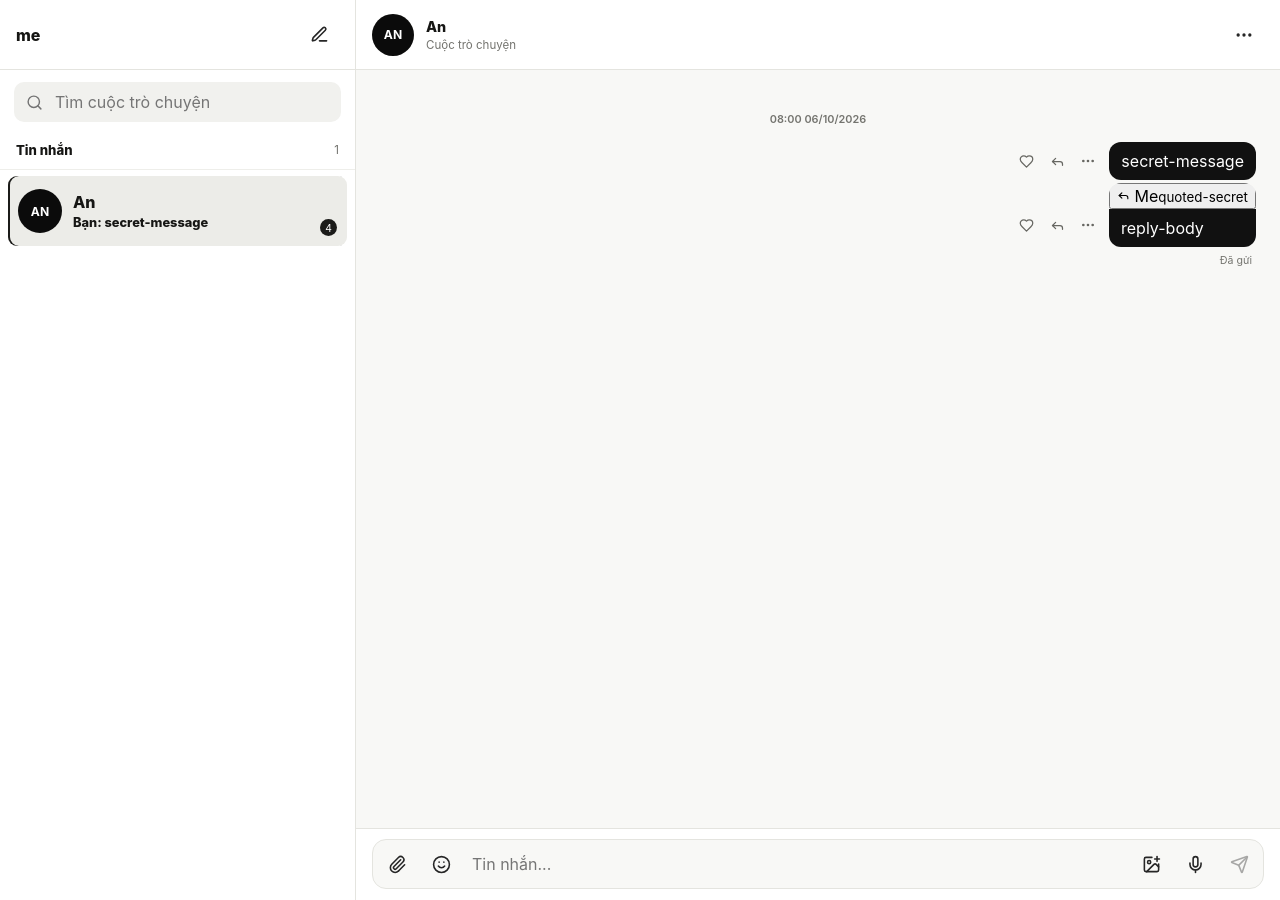
Scenario: full message action parity › recalls for the sender and redacts reply quotes without clearing the composer
expect the text "quoted-secret" is shown: met, box left=1158, top=189, right=1248, bottom=205
Type "keep draft" into the text box named "Nội dung tin nhắn" at (796, 864), box left=465, top=844, right=1127, bottom=884
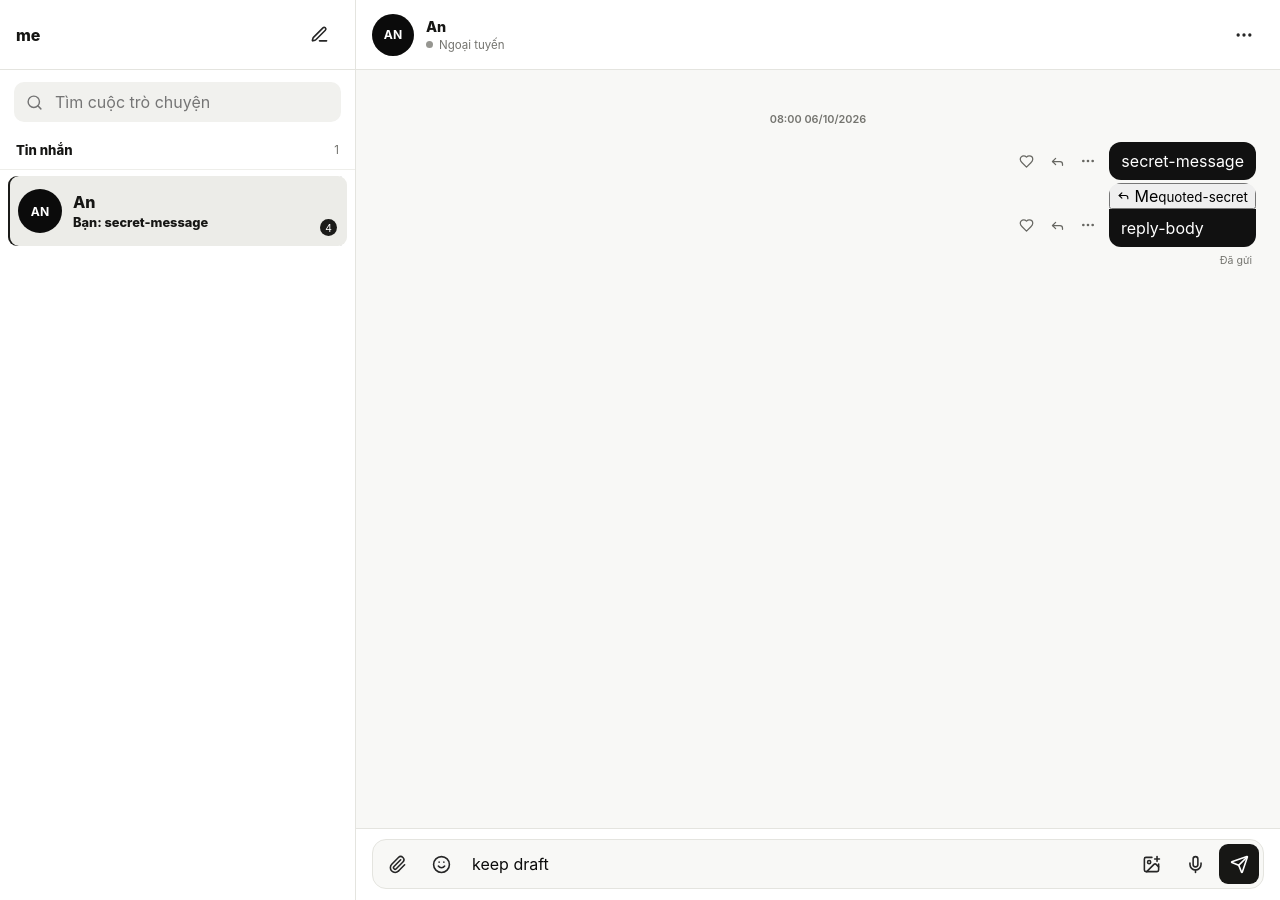
Click the button named "Thao tác khác" below "08:00 06/10/2026" at (1088, 161), box left=1073, top=146, right=1103, bottom=176
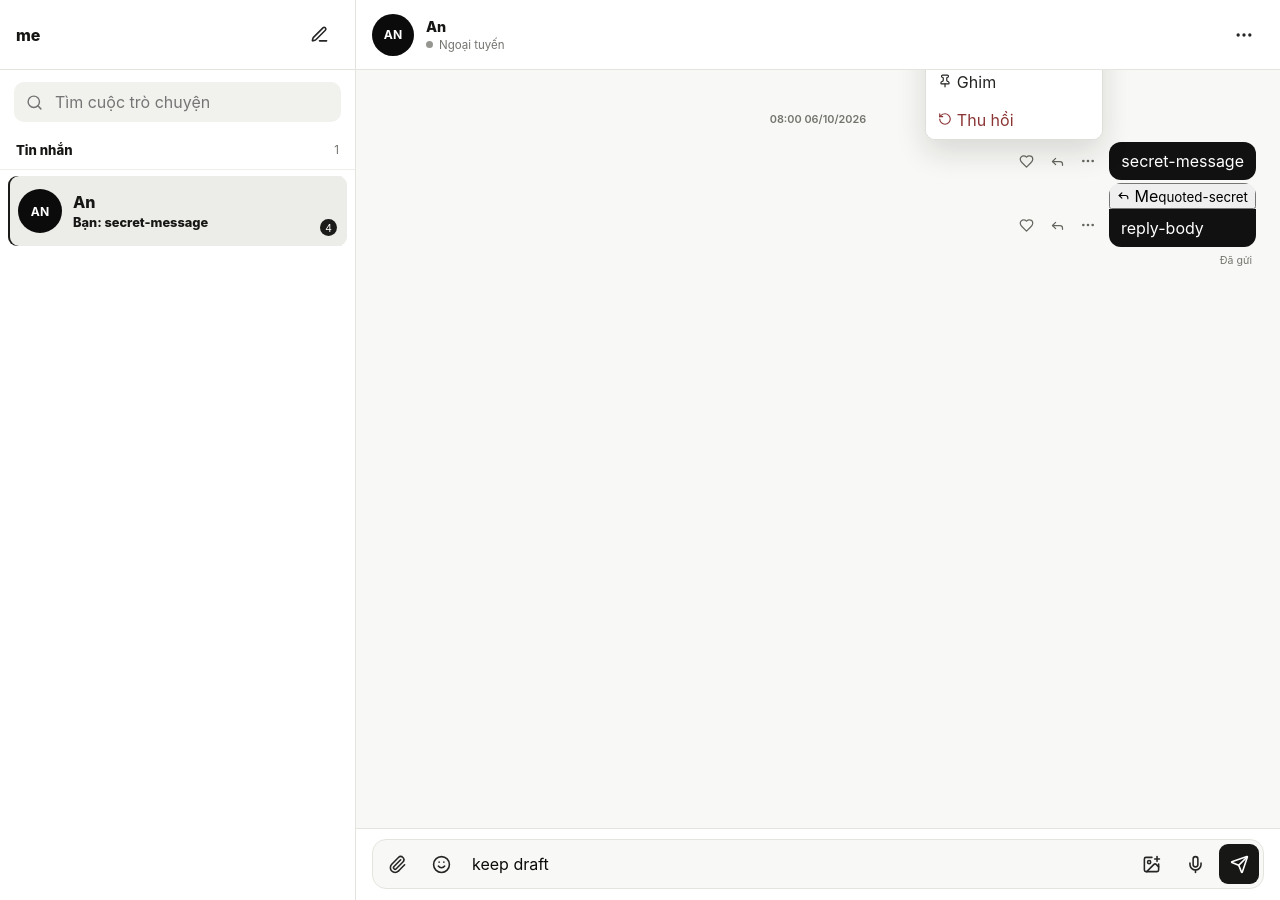
Click the menu item "Thu hồi" at (1014, 120), box left=926, top=101, right=1102, bottom=139
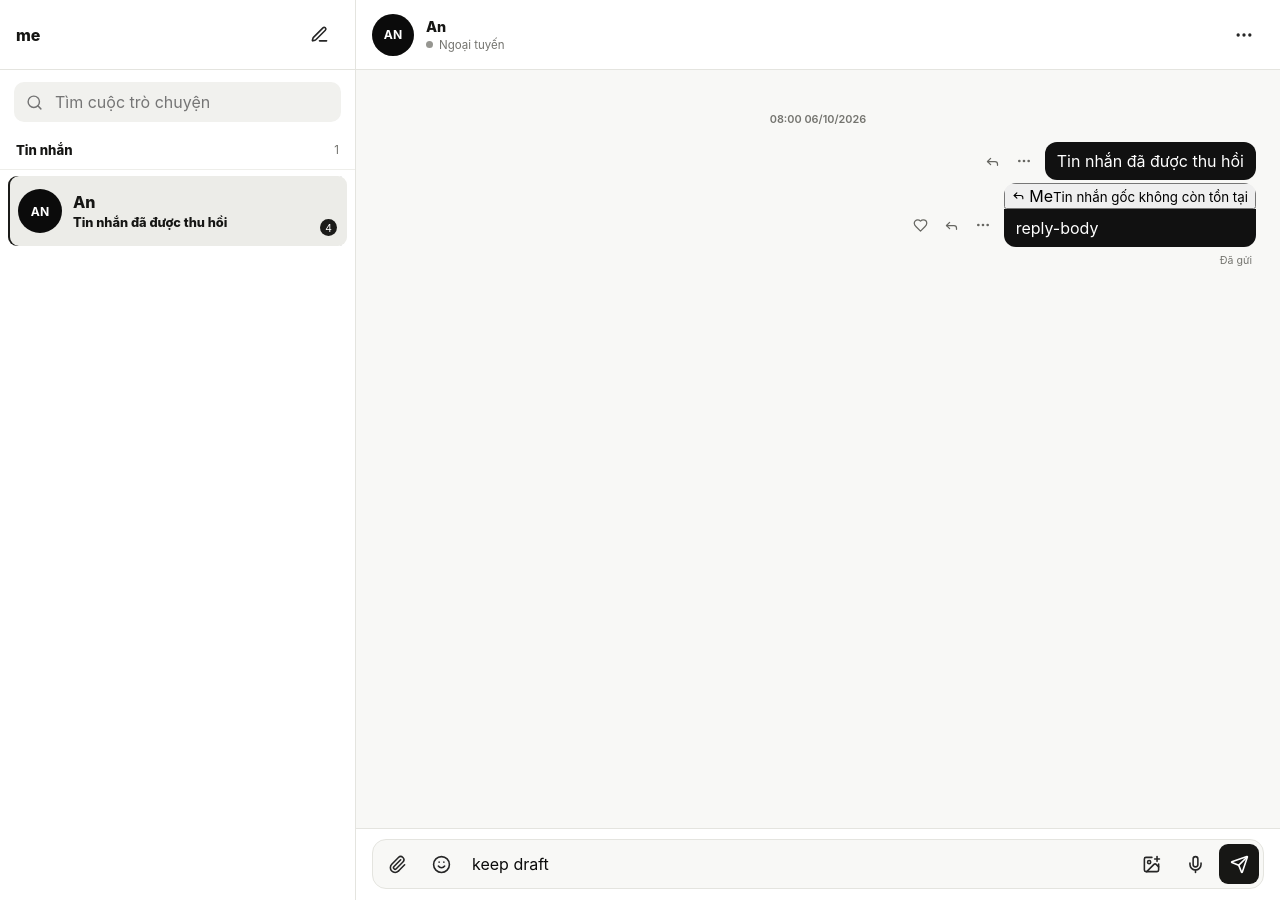
expect the text "reply-body" is shown: met, box left=1016, top=218, right=1098, bottom=238
expect the button "quoted-secret" is gone: met
expect the 2nd text "Tin nhắn đã được thu hồi" is shown: met, box left=73, top=215, right=227, bottom=230
